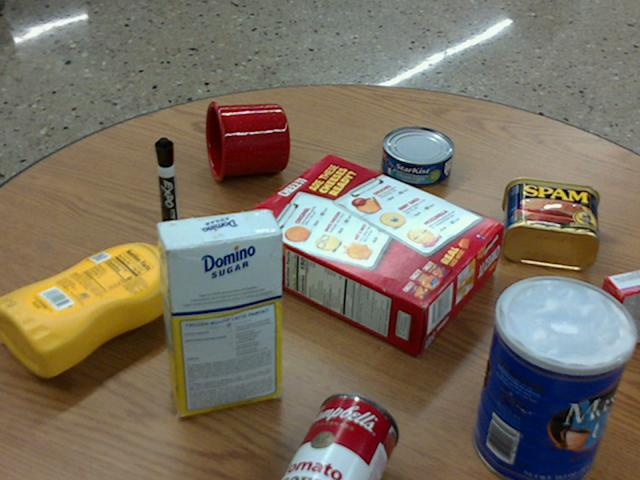cracker_box: (237, 153, 501, 351)
gelatin_box: (588, 269, 639, 350)
large_marker: (155, 137, 179, 241)
master_chef_can: (473, 276, 634, 479)
mug: (204, 101, 289, 181)
mustard_bottle: (0, 241, 195, 376)
potted_meat_can: (503, 175, 599, 269)
sugar_box: (156, 209, 280, 414)
tomato_soup_can: (282, 392, 399, 479)
tuna_fish_can: (382, 126, 454, 184)
